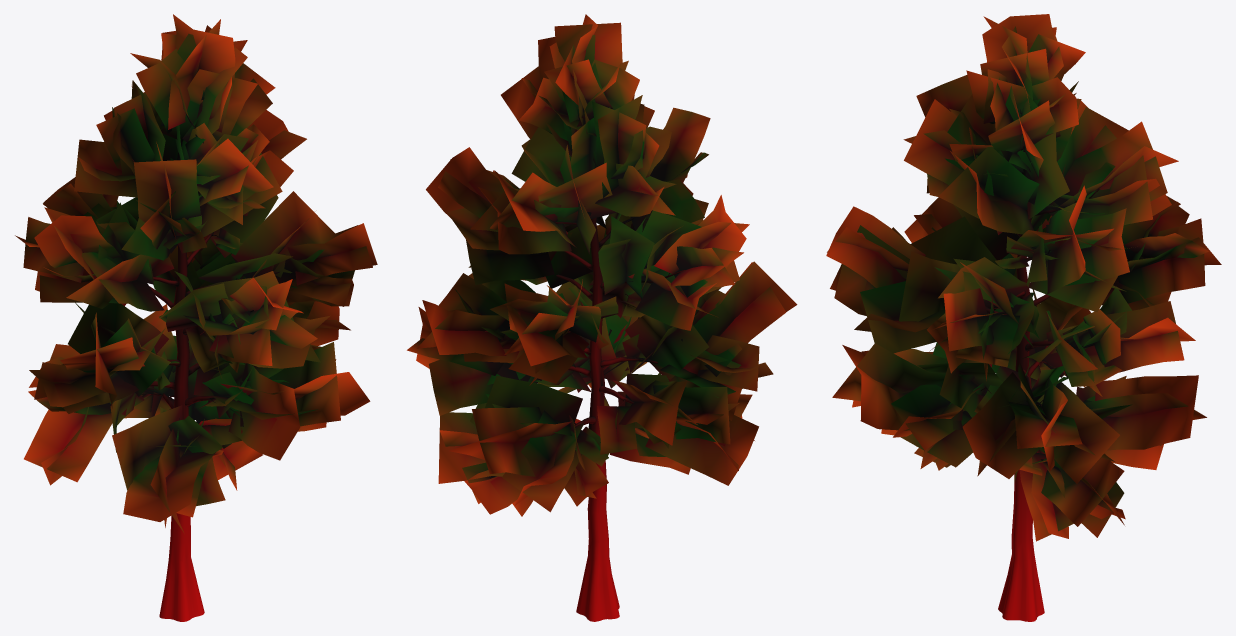
Rendered from BeecthTree04Summer.fbx.
The picture shows the model from 3 angles, left to right: view 1: azimuth 30°, elevation 25°; view 2: azimuth 150°, elevation 25°; view 3: azimuth 270°, elevation 25°; orthographic projection. The views are drawn at different scales.
Visible parts, largest first — view 1: BeecthTree04Summer_Leaves_LOD0, BeecthTree04Summer_Bark_LOD0; view 2: BeecthTree04Summer_Leaves_LOD0, BeecthTree04Summer_Bark_LOD0; view 3: BeecthTree04Summer_Leaves_LOD0, BeecthTree04Summer_Bark_LOD0.
Part boxes in pixels (<box>): BeecthTree04Summer_Leaves_LOD0: <box>15,14,377,533</box>; BeecthTree04Summer_Bark_LOD0: <box>109,141,279,621</box>; BeecthTree04Summer_Leaves_LOD0: <box>407,14,797,516</box>; BeecthTree04Summer_Bark_LOD0: <box>485,216,684,621</box>; BeecthTree04Summer_Leaves_LOD0: <box>826,14,1221,541</box>; BeecthTree04Summer_Bark_LOD0: <box>980,146,1119,621</box>.
Size of what is drawn, in the model's own units: 14.04 by 24.21 by 14.4.
